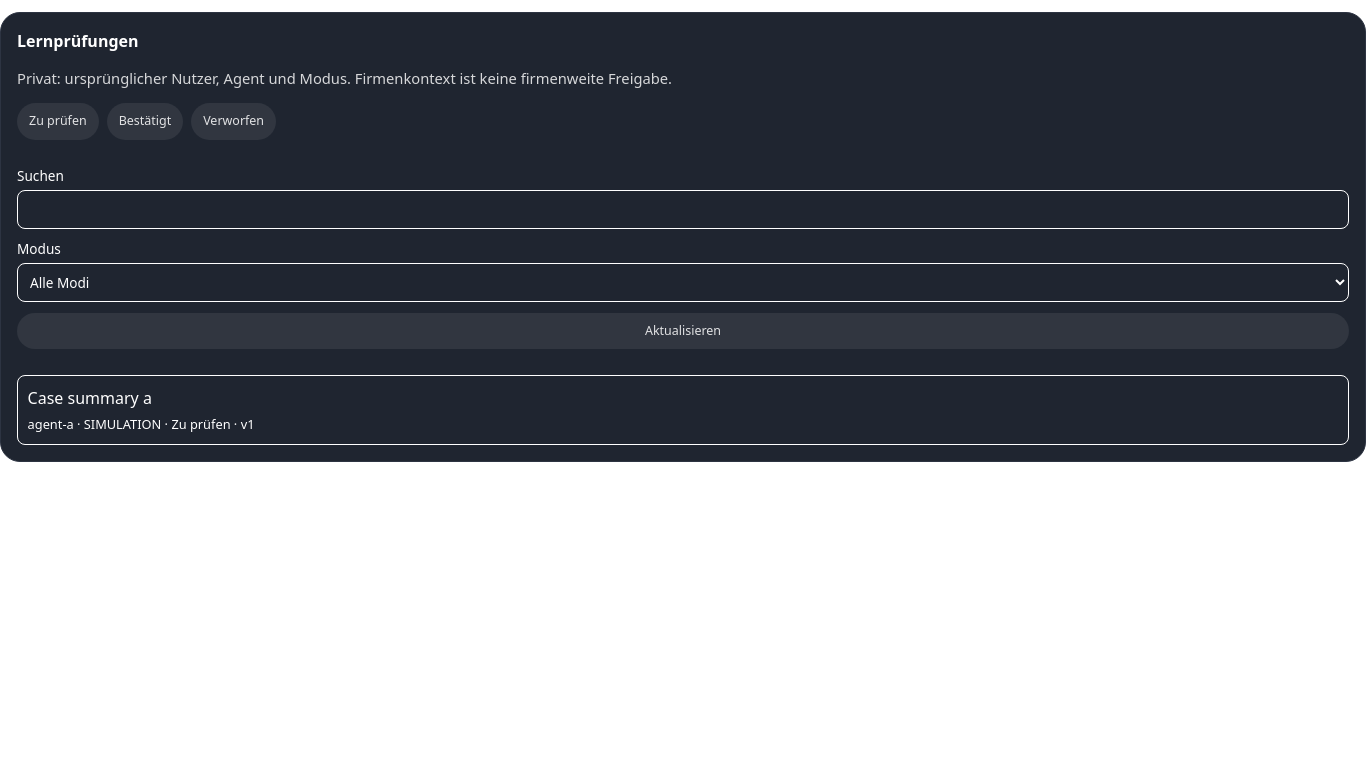
private learning reviews › clears private detail, draft and list when current access is lost
Click the button "Case summary a agent-a · SIMULATION · Zu prüfen · v1": (90, 398) [17,376,1349,445]
(page scrolled)
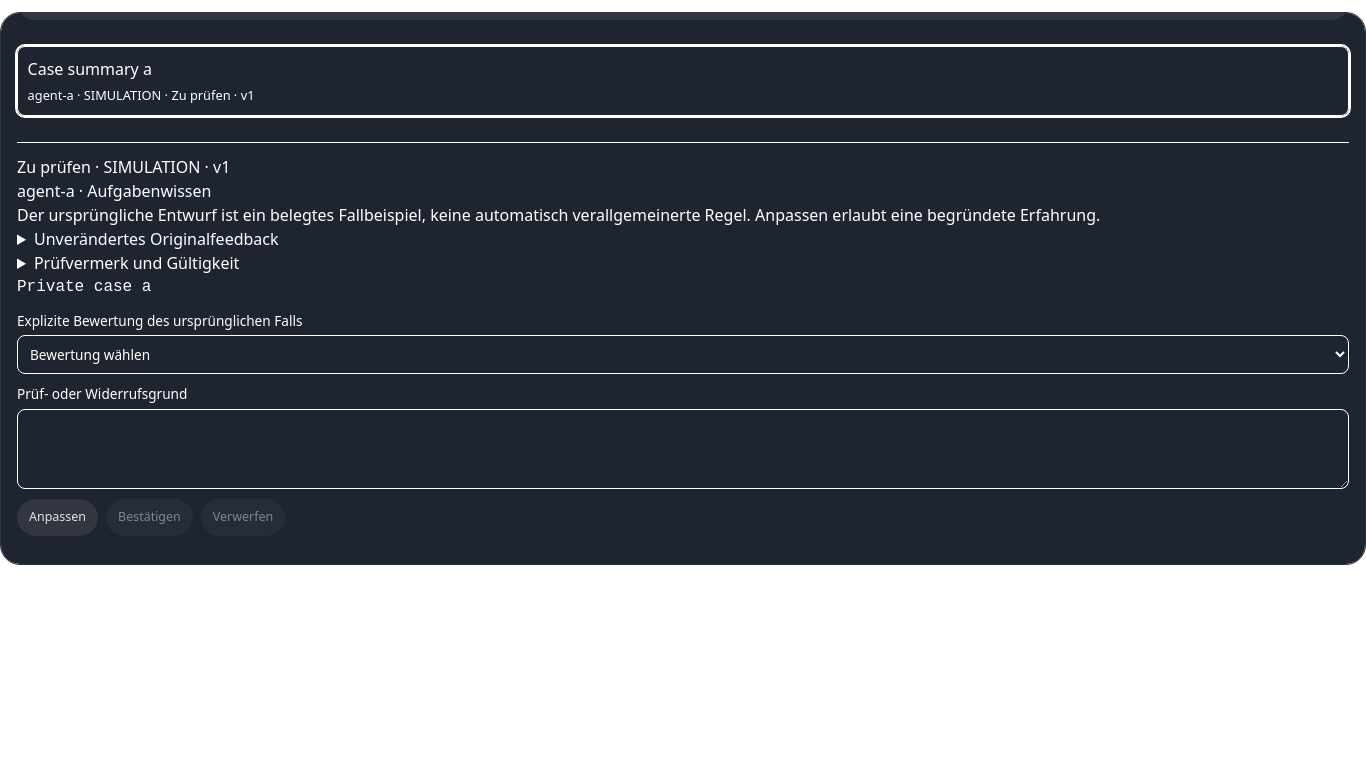
Result: the text "Private case a" is shown at [17,278,151,296]
Click the button "Anpassen": (58, 518) [17,499,98,536]
(page scrolled)
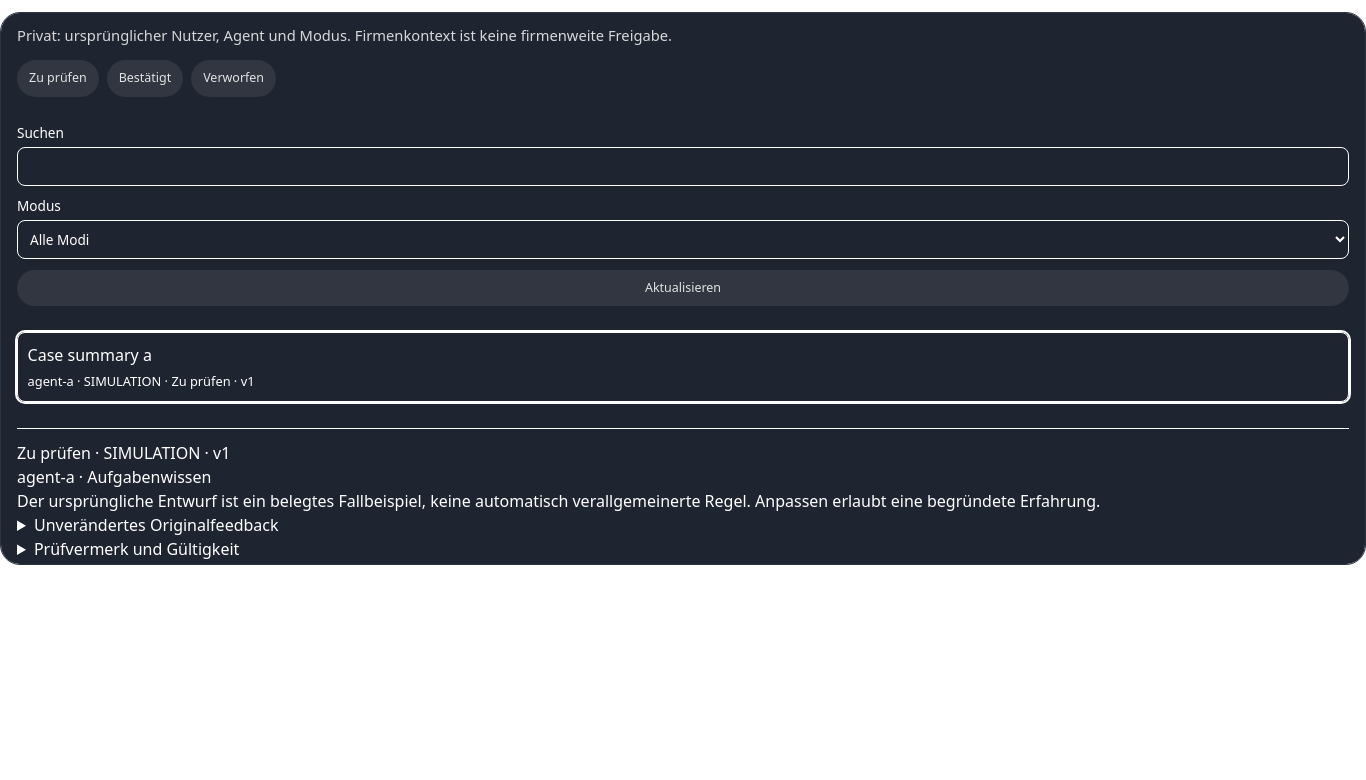
Click the button "Aktualisieren": (683, 288) [17,270,1349,306]
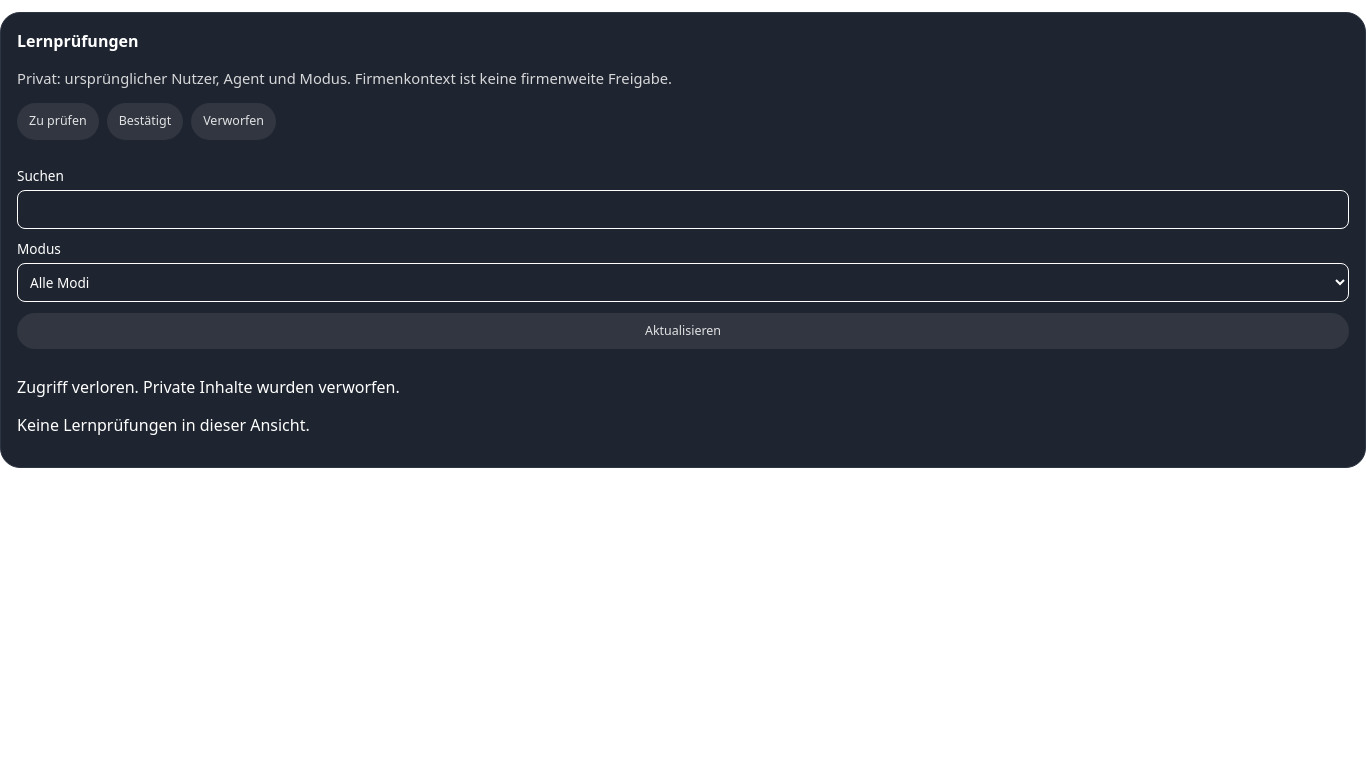
Expected: the text "Private case a" is not shown
Result: the message "Zugriff verloren. Private Inhalte wurden verworfen." is shown at [17,376,400,398]
Result: the button "Case summary a" is gone
